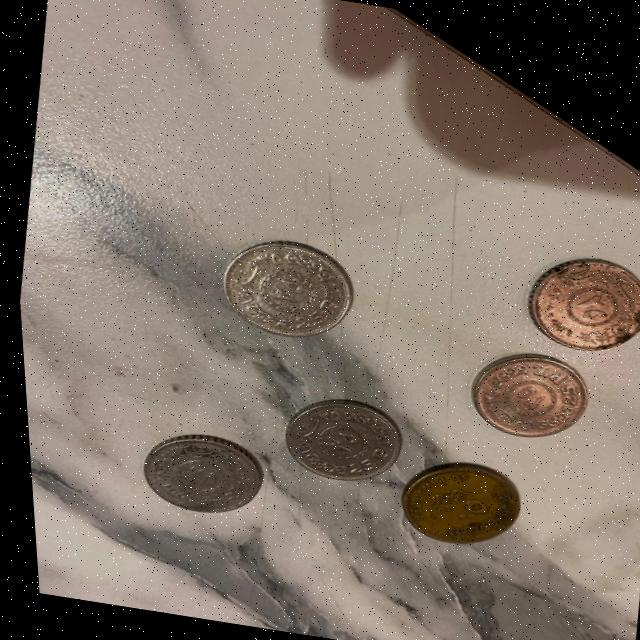Half Pound: (382, 449, 523, 558)
quarter pound: (208, 232, 357, 346), (515, 248, 640, 358), (456, 346, 589, 446), (132, 423, 266, 522), (271, 389, 404, 488)
